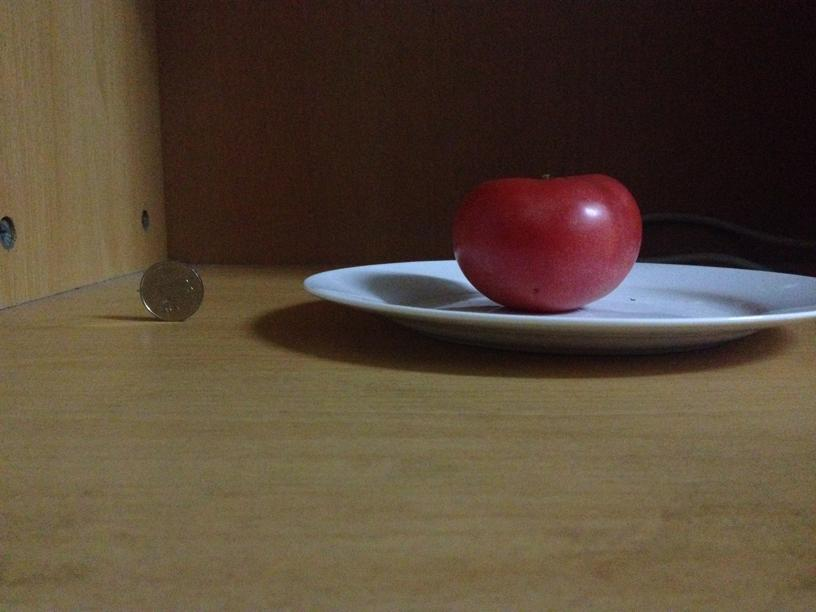coin: (134, 261, 202, 321)
tomato: (452, 169, 645, 310)
